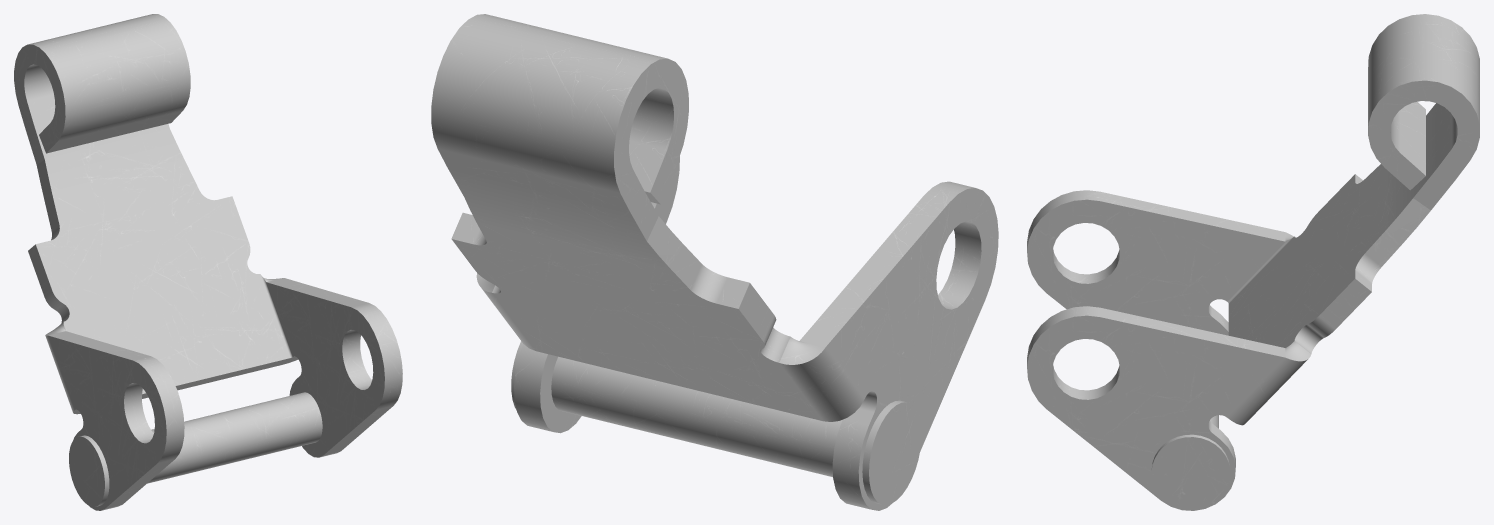
The model's file is Connector2.glb.
3 renders of one model, left to right at view 1: azimuth 30°, elevation 25°; view 2: azimuth 150°, elevation 25°; view 3: azimuth 270°, elevation 25°, orthographic. The views are drawn at different scales.
Visible parts, largest first — view 1: color.005; view 2: color.005; view 3: color.005.
Part boxes in pixels (x1,y1,x2,y2): color.005: [14, 14, 402, 510]; color.005: [431, 14, 998, 510]; color.005: [1027, 14, 1479, 510].
Bounding box in the file's own units: 0.0137 × 0.0197 × 0.0201.
1 material, 1 textured.
